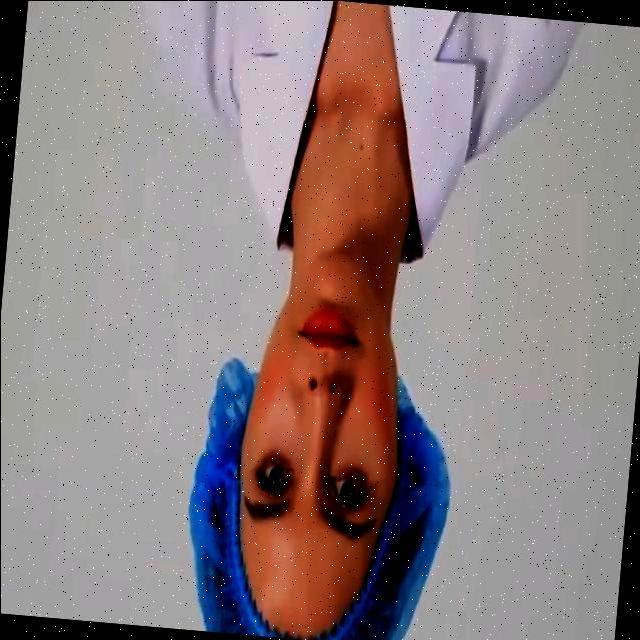gloves: (198, 569, 410, 640)
no_hairnet: (250, 290, 386, 408)
